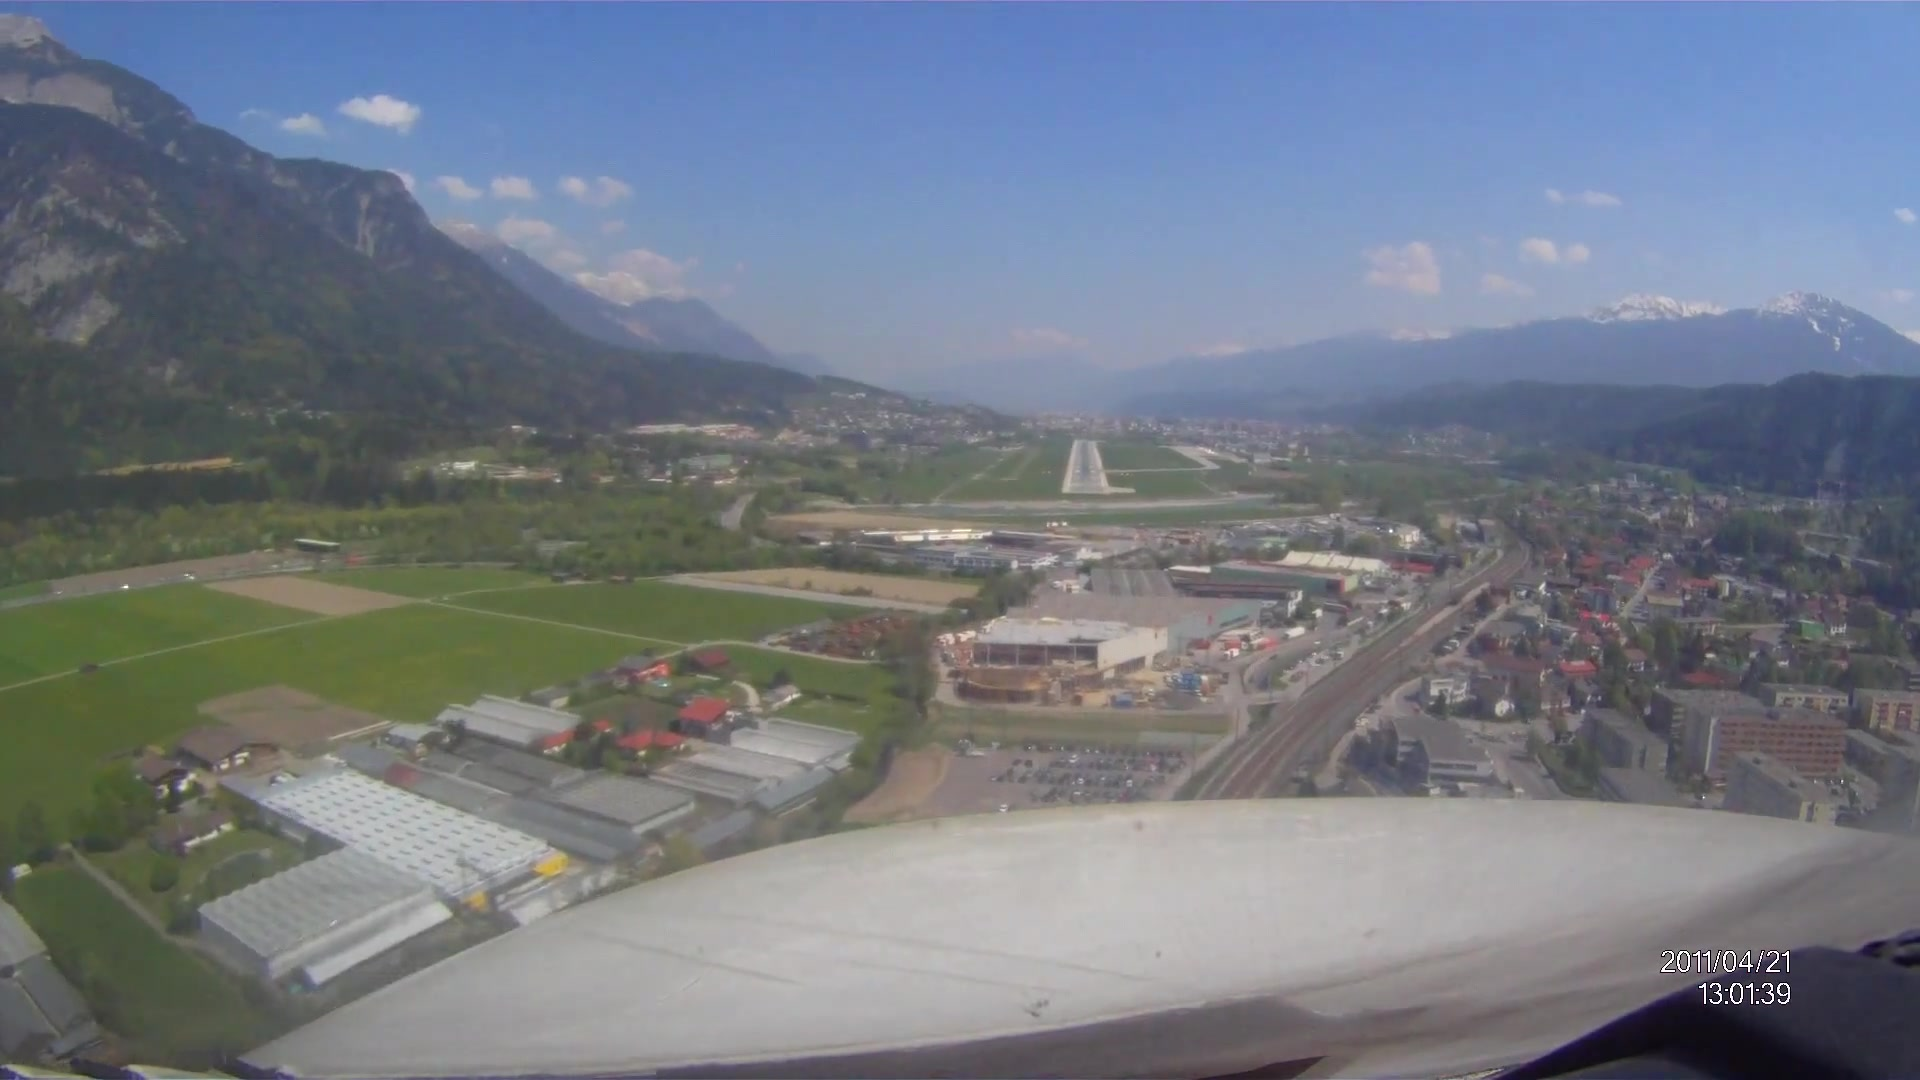runway: (1063, 440, 1105, 493)
